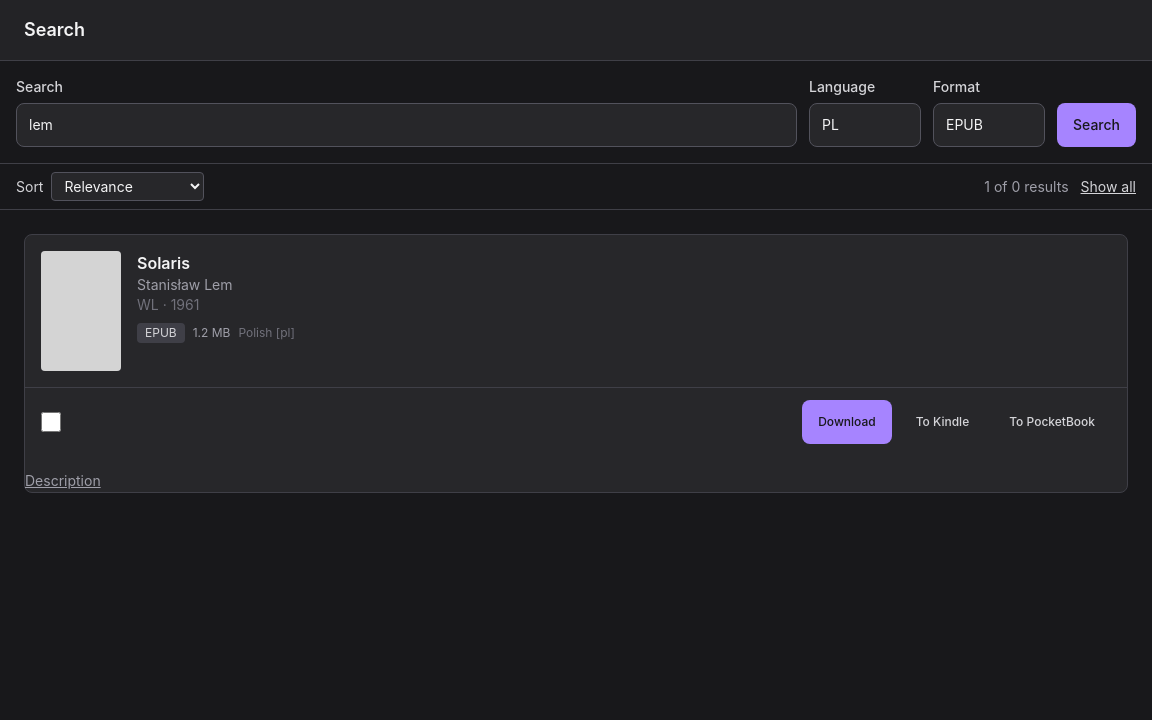
it: SearchView description › labels a generated description as soon as it arrives
What coordinates should you click on to do the following:
click the button with test id "description-toggle"
I would click on:
 (63, 481)
Its box is left=25, top=471, right=101, bottom=491.
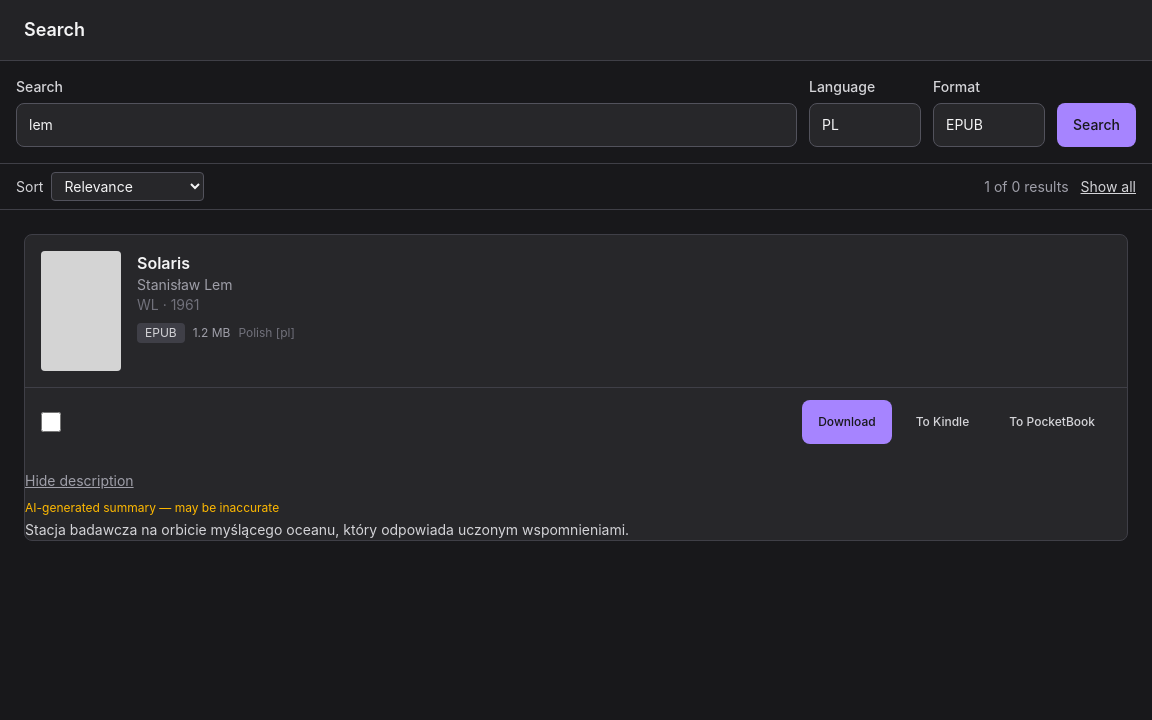
Now the text with test id "description-generated-label" shows "AI", box left=25, top=500, right=279, bottom=515
